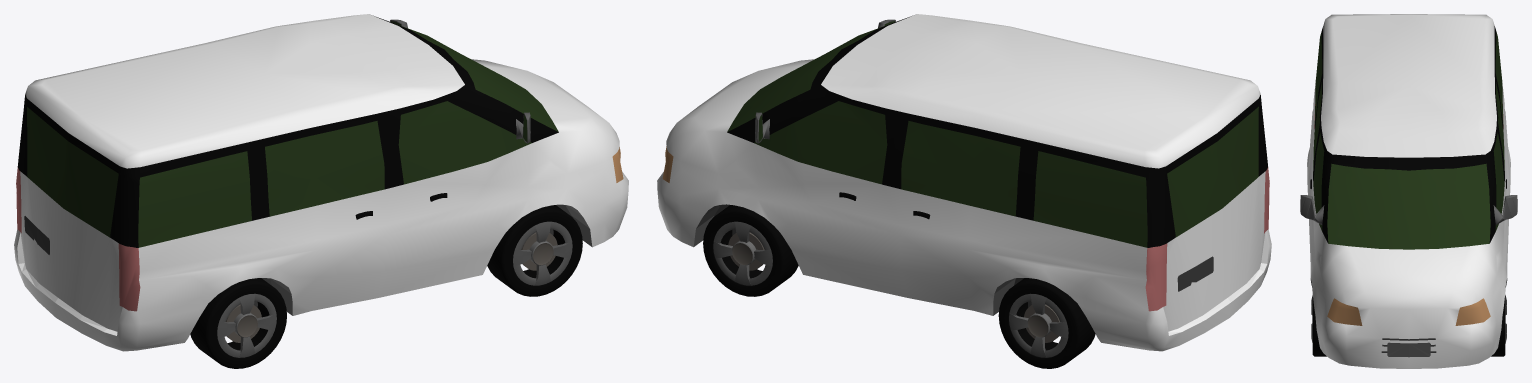
File: car12.glb
The picture shows the model from 3 angles, left to right: view 1: azimuth 30°, elevation 25°; view 2: azimuth 150°, elevation 25°; view 3: azimuth 270°, elevation 25°; orthographic projection. The views are drawn at different scales.
Visible parts, largest first — view 1: obj7~??_19_materialGroup_7, obj11~Material__32_materialGroup_11, obj8~car308_materialGroup_8, obj27~_____21_materialGroup_17, obj13~_____21_materialGroup_13, ~??_10_materialGroup_15, obj2~??_5_materialGroup_2, ~??_22_materialGroup_14, ~_____21_materialGroup_12, obj1~??_15_materialGroup_1; view 2: obj7~??_19_materialGroup_7, obj11~Material__32_materialGroup_11, obj8~car308_materialGroup_8, ~_____21_materialGroup_12, ~??_10_materialGroup_15, obj2~??_5_materialGroup_2, ~??_22_materialGroup_14, obj1~??_15_materialGroup_1, ~??_20_materialGroup_4; view 3: obj7~??_19_materialGroup_7, obj11~Material__32_materialGroup_11, obj8~car308_materialGroup_8, obj9~??_2_materialGroup_9, obj6~??_15_materialGroup_6, ~_____21_materialGroup_12, obj13~_____21_materialGroup_13, obj3~??_15_materialGroup_3, ~??_15_materialGroup_5.
Part boxes in pixels (x1,y1,x2,y2): obj7~??_19_materialGroup_7: (14,14,628,351); obj11~Material__32_materialGroup_11: (27,21,558,247); obj8~car308_materialGroup_8: (17,15,558,247); obj27~_____21_materialGroup_17: (190,278,286,368); obj13~_____21_materialGroup_13: (487,205,582,296); ~??_10_materialGroup_15: (217,221,572,357); obj2~??_5_materialGroup_2: (16,167,140,311); ~??_22_materialGroup_14: (226,232,557,342); ~_____21_materialGroup_12: (247,147,269,220); obj1~??_15_materialGroup_1: (270,205,592,315); obj7~??_19_materialGroup_7: (657,14,1271,351); obj11~Material__32_materialGroup_11: (727,21,1258,247); obj8~car308_materialGroup_8: (727,15,1267,247); ~_____21_materialGroup_12: (703,147,1095,368); ~??_10_materialGroup_15: (713,221,1068,357); obj2~??_5_materialGroup_2: (1145,167,1269,311); ~??_22_materialGroup_14: (728,232,1059,342); obj1~??_15_materialGroup_1: (693,205,1015,315); ~??_20_materialGroup_4: (1177,256,1213,291); obj7~??_19_materialGroup_7: (1307,14,1510,368); obj11~Material__32_materialGroup_11: (1313,32,1504,249); obj8~car308_materialGroup_8: (1313,26,1504,243); obj9~??_2_materialGroup_9: (1327,298,1490,325); obj6~??_15_materialGroup_6: (1300,195,1517,224); ~_____21_materialGroup_12: (1314,76,1505,356); obj13~_____21_materialGroup_13: (1312,295,1326,356); obj3~??_15_materialGroup_3: (1409,342,1430,357); ~??_15_materialGroup_5: (1387,342,1408,357).
Size of the model in its own units: 5.57 by 2.28 by 2.44.
